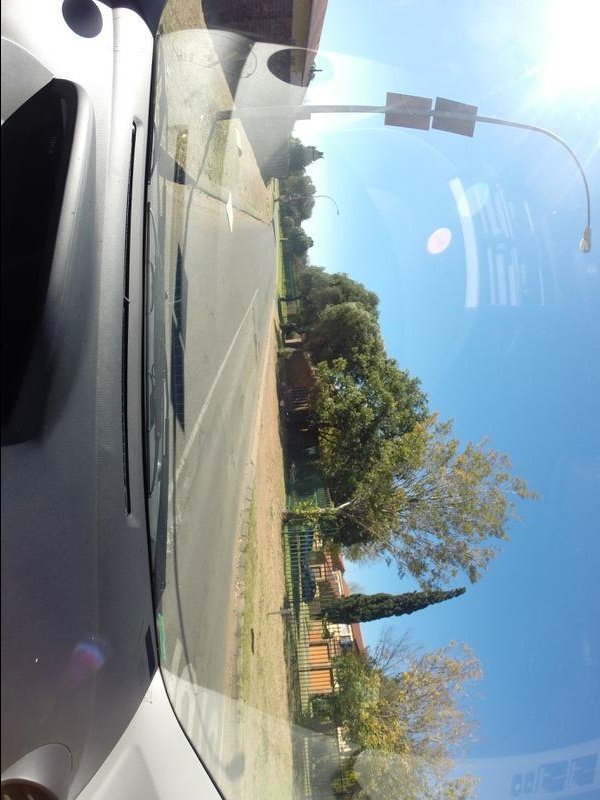pothole: (218, 452, 244, 481), (247, 332, 266, 358)
